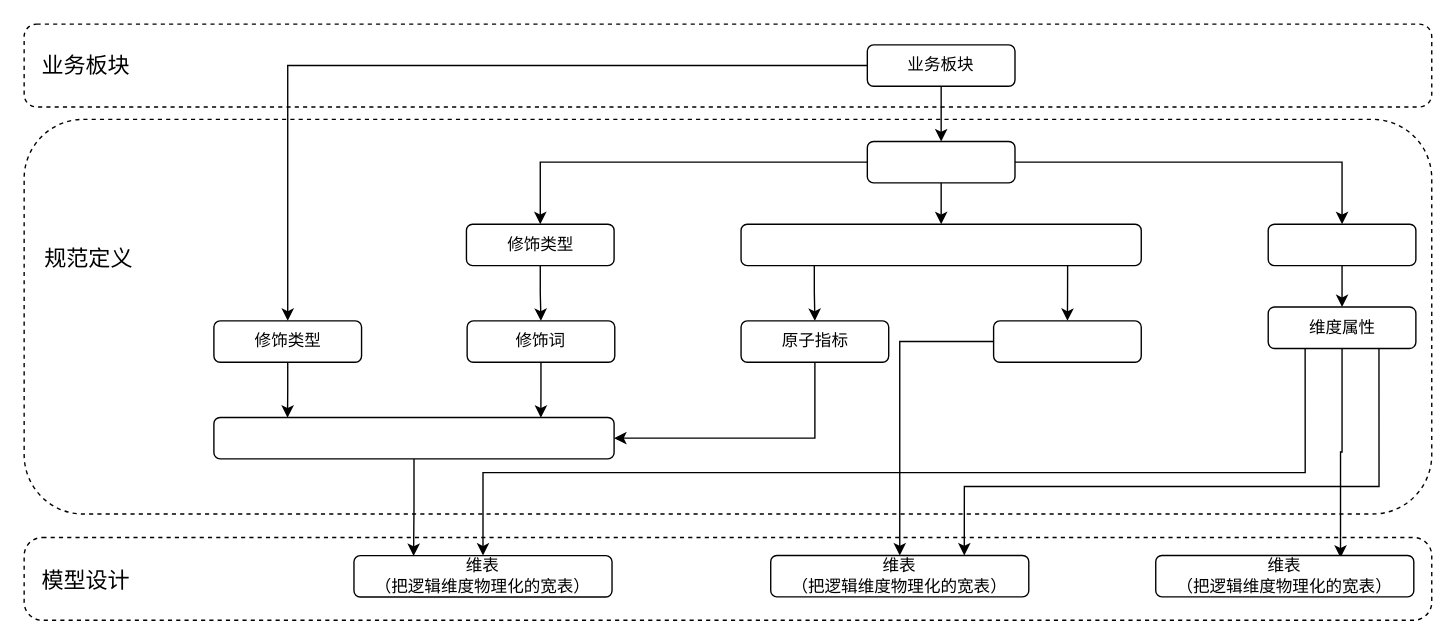
Some shapes in this 1456 by 644 pixel diagram are drawn without their labels. The shapes that lost their labels are listed below. From the top down, each one's box as (x1, y1, x2, y2) in pixels, then its label:
(866, 140, 1015, 183): 数据域
(740, 223, 1141, 266): 业务过程
(1267, 223, 1416, 266): 维度
(992, 319, 1141, 362): 度量
(213, 416, 614, 459): 派生指标 （派生指标=原子指标+时间周期+修饰词）
